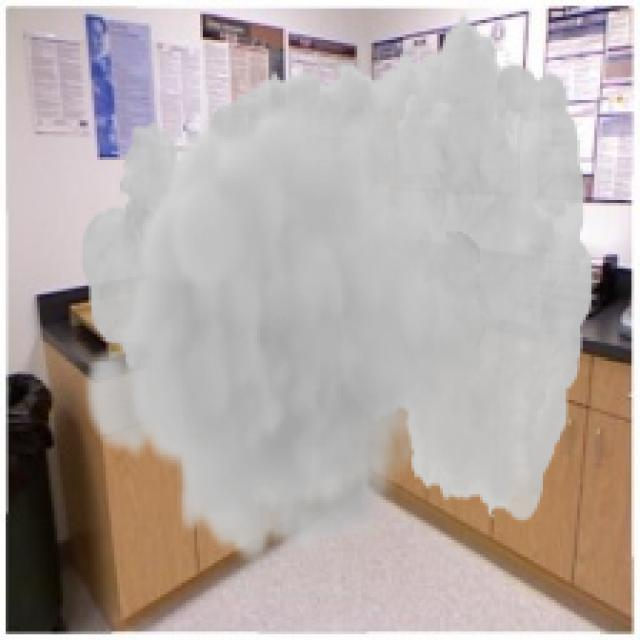Smoke: (80, 11, 594, 566)
